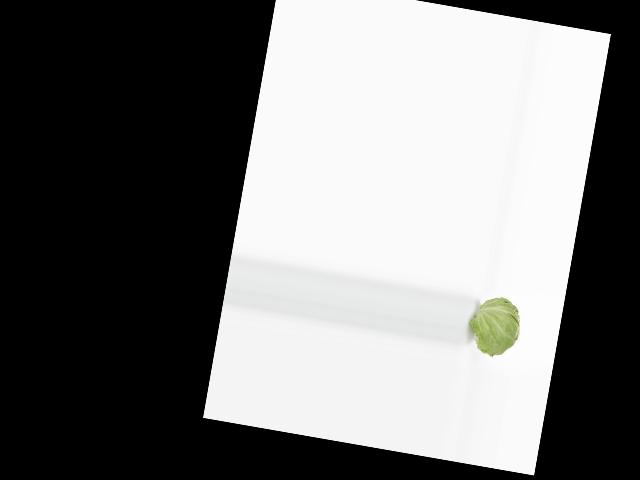lettuce: (470, 290, 526, 362)
